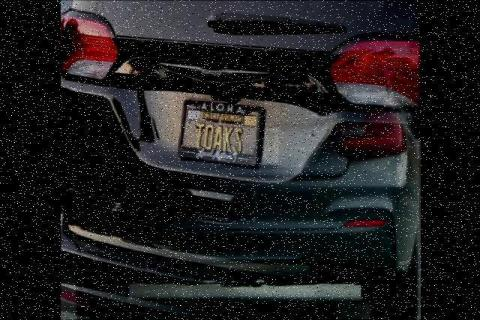LicensePlate: (183, 96, 258, 164)
